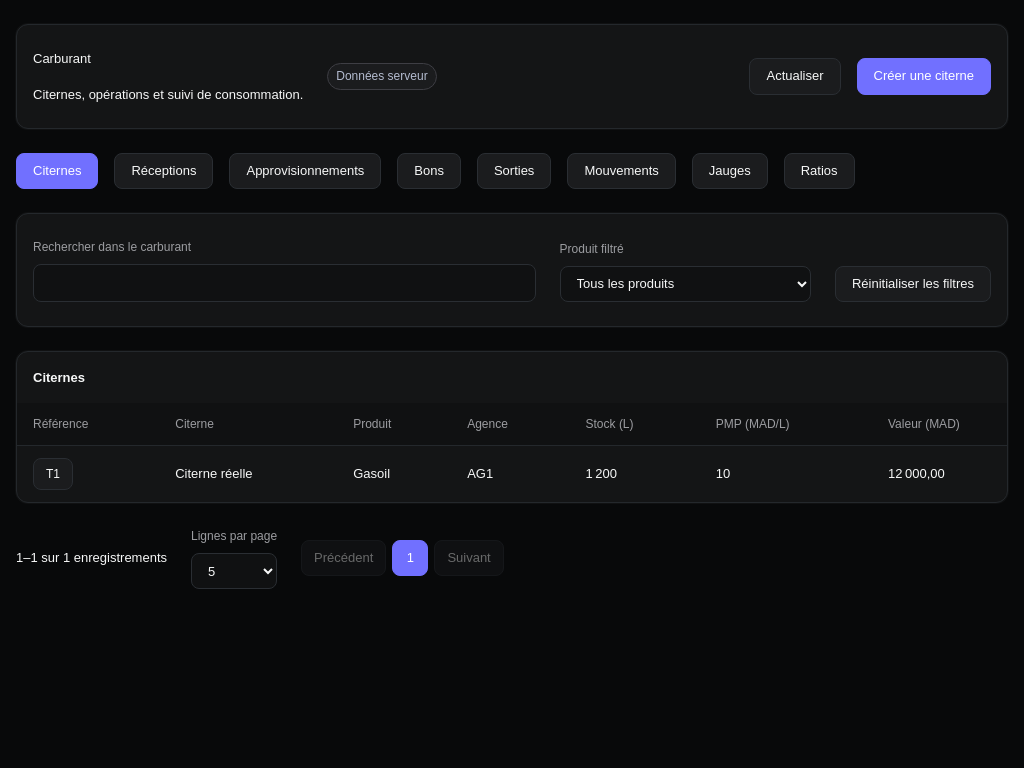
Test case: Fuel connected presentation › creates a tank and displays its confirmed details
The image size is (1024, 768).
Click the button "Créer une citerne": (924, 76) x1=856 y1=58 x2=991 y2=95
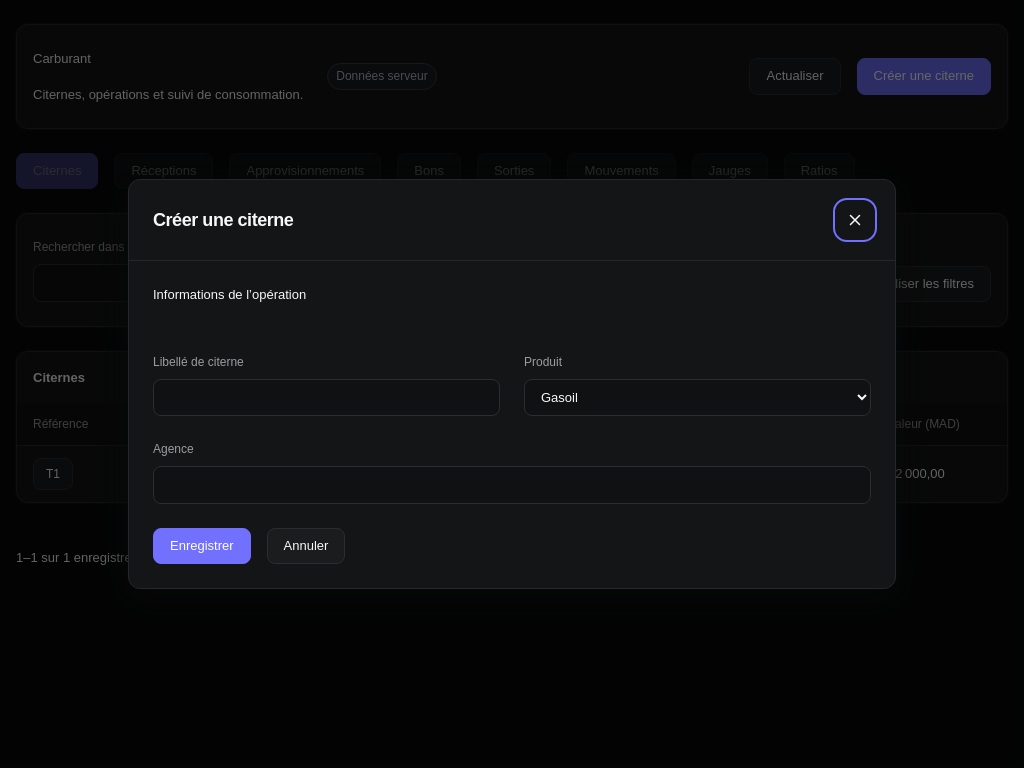
In the field labelled "Libellé de citerne": (326, 397) x1=153 y1=379 x2=500 y2=416, type "Citerne réelle"
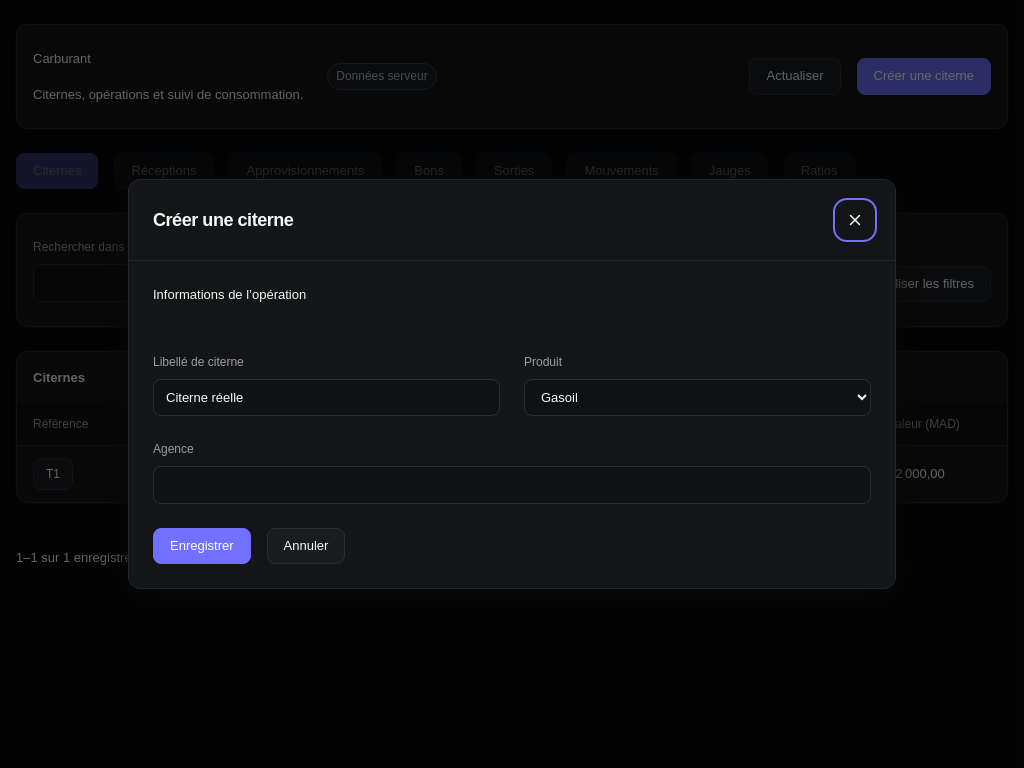
Click the button "Enregistrer": (202, 546) x1=153 y1=528 x2=251 y2=564
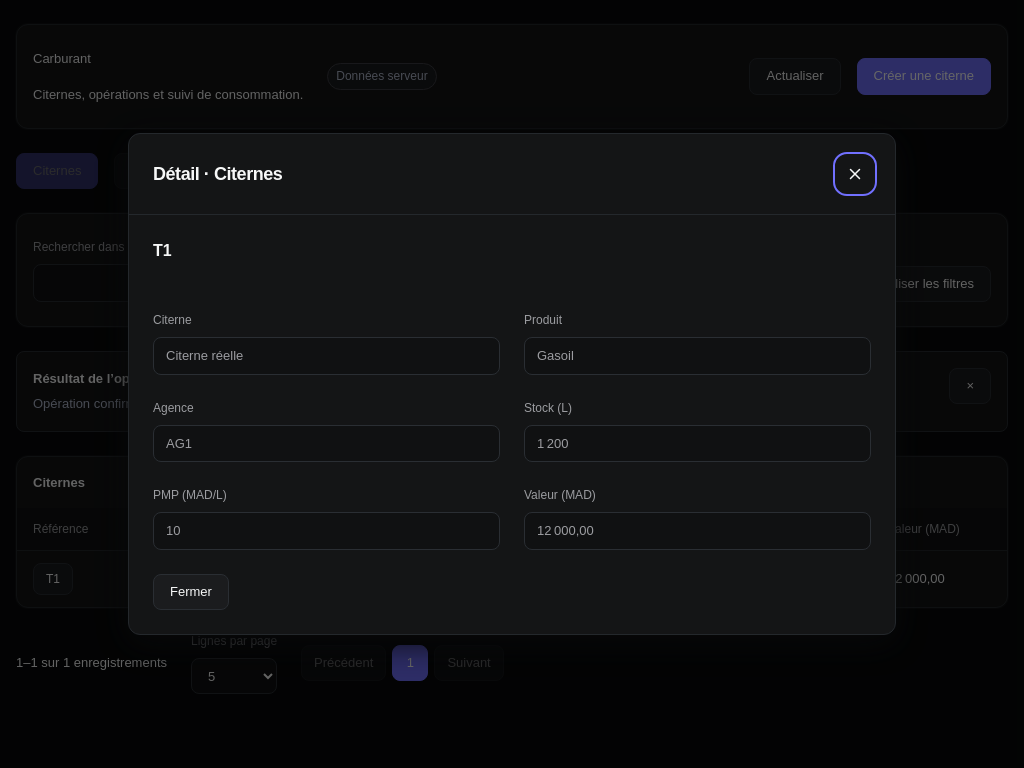
Result: the text "Opération confirmée par le serveur." is shown at x1=33 y1=396 x2=237 y2=411
Result: the field showing "Citerne réelle" is shown at x1=153 y1=337 x2=500 y2=375
